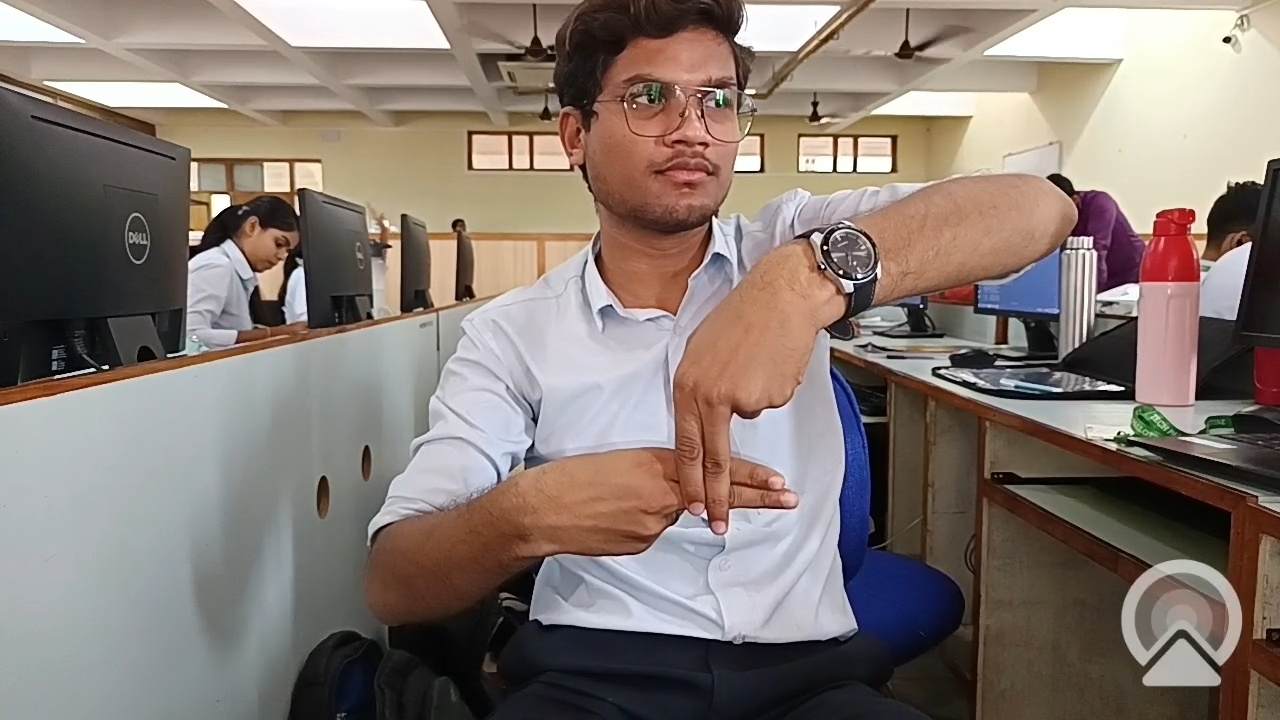F: (549, 301, 871, 565)
